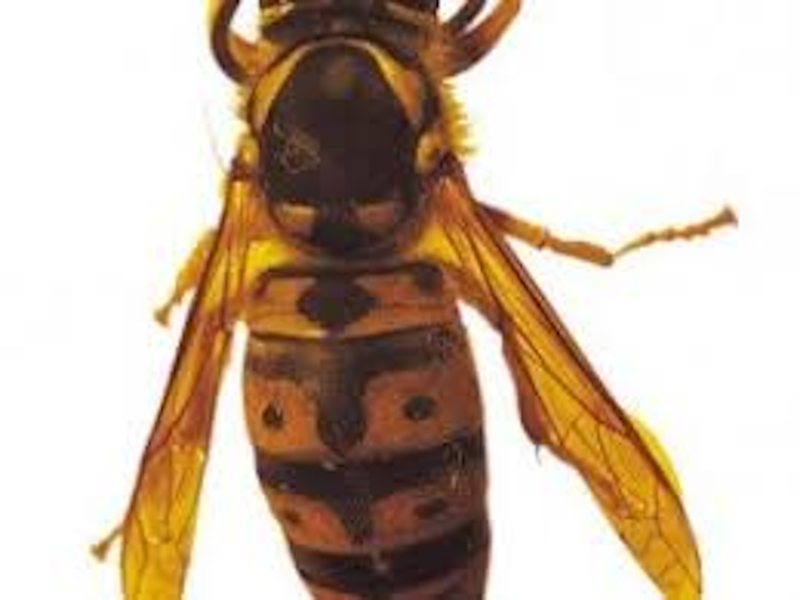chax: (86, 1, 735, 600)
